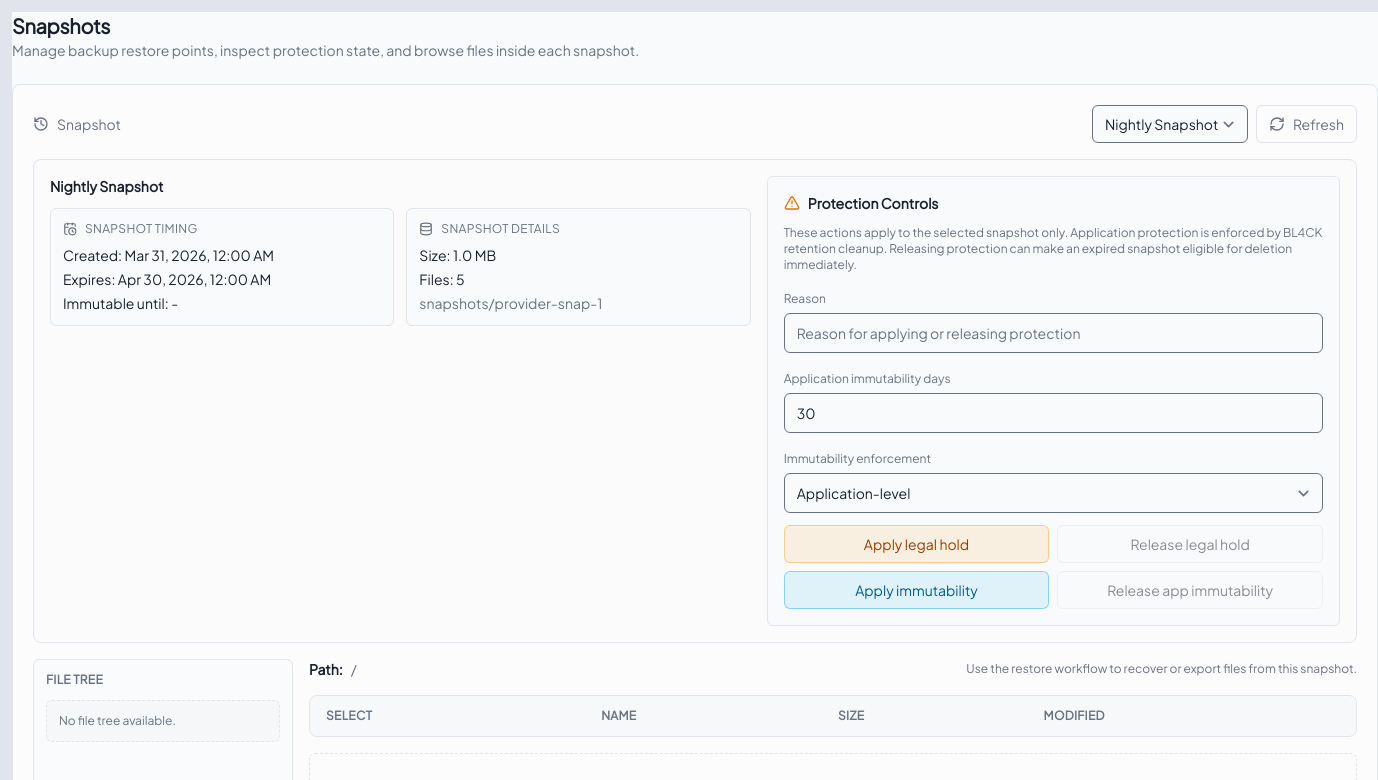
Test: SnapshotBrowser › applies legal hold for the selected snapshot
expect the text "Protection Controls" is shown: met, box [784,194,938,212]
Step 1. Type "Litigation" into the field labelled "Reason for applying or releasing protection" → [1053, 333], box [784,313,1323,353]
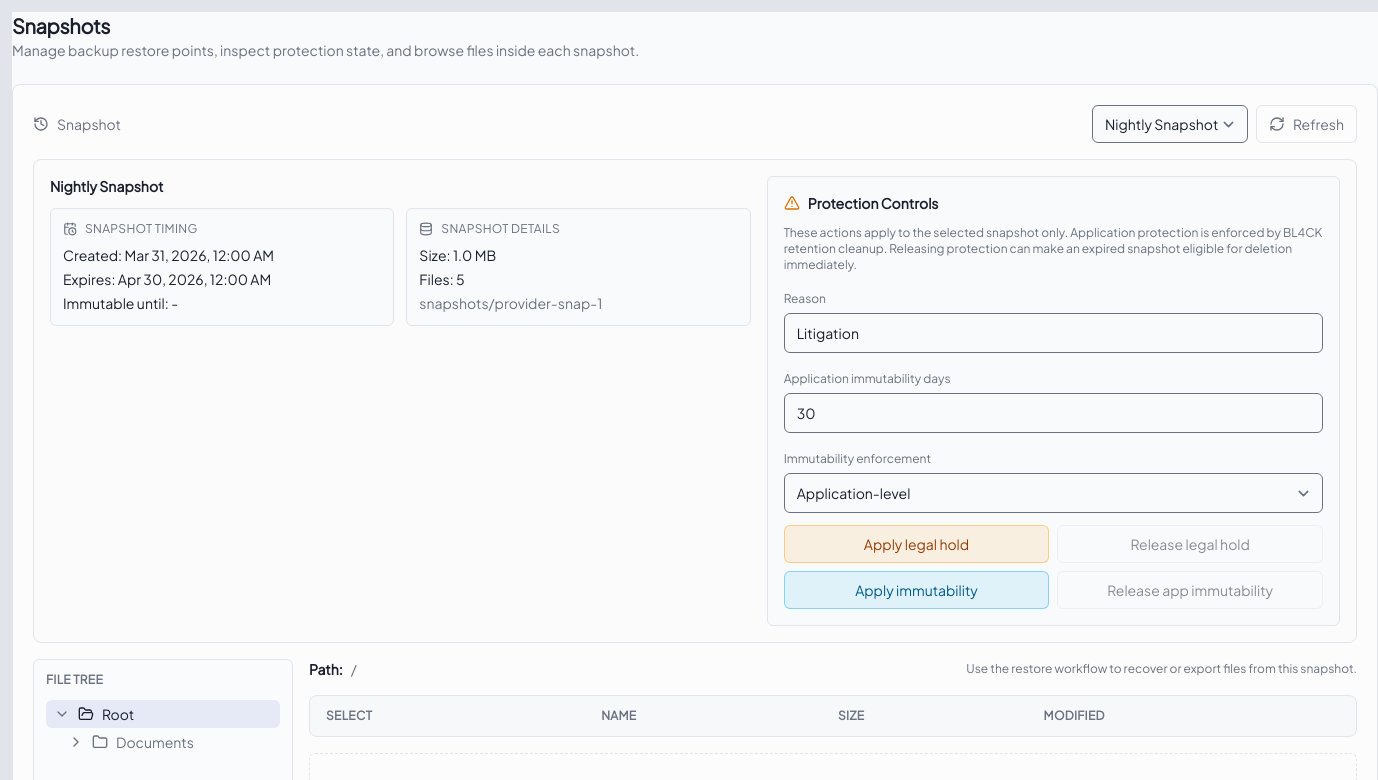
Step 2. Click the button "Apply legal hold" → [917, 544], box [784,525,1049,563]
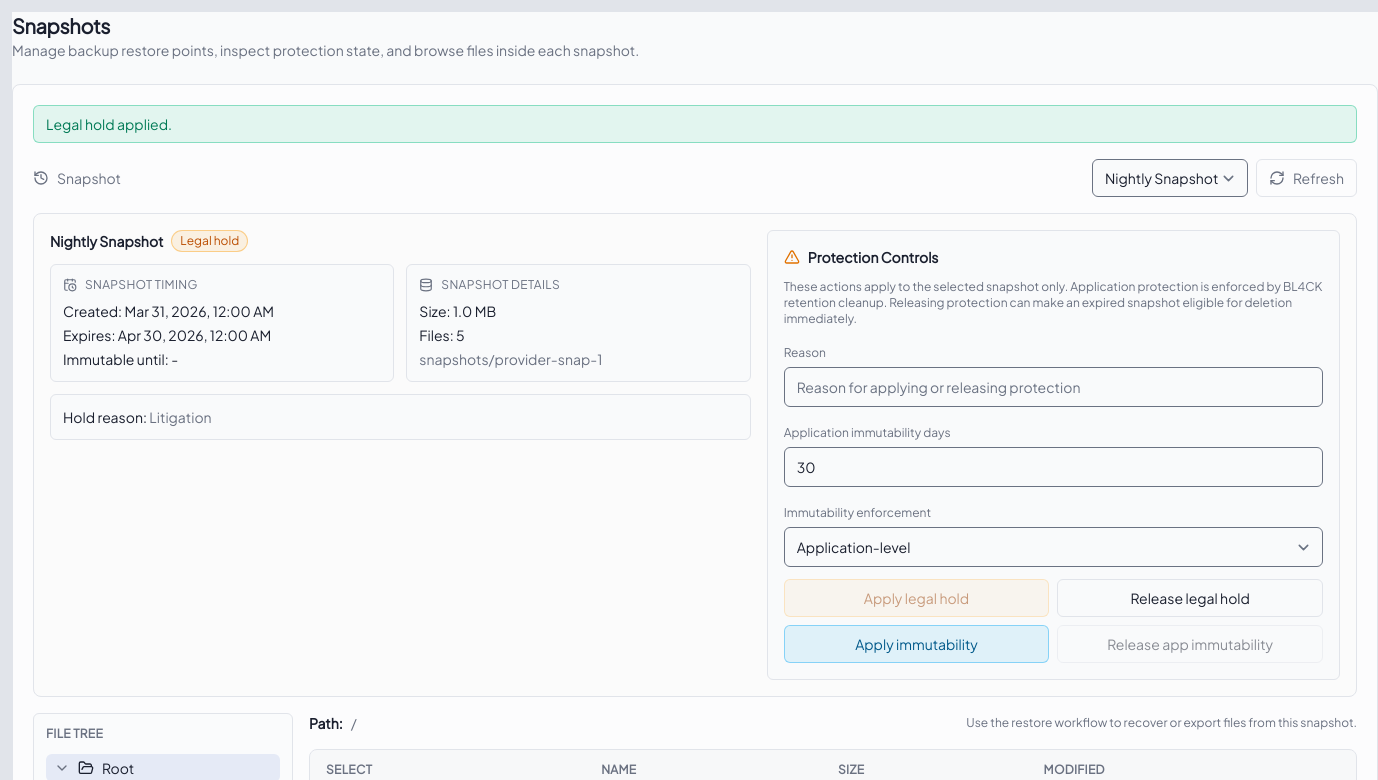
expect the text "Legal hold applied." is shown: met, box [33,105,1357,143]
